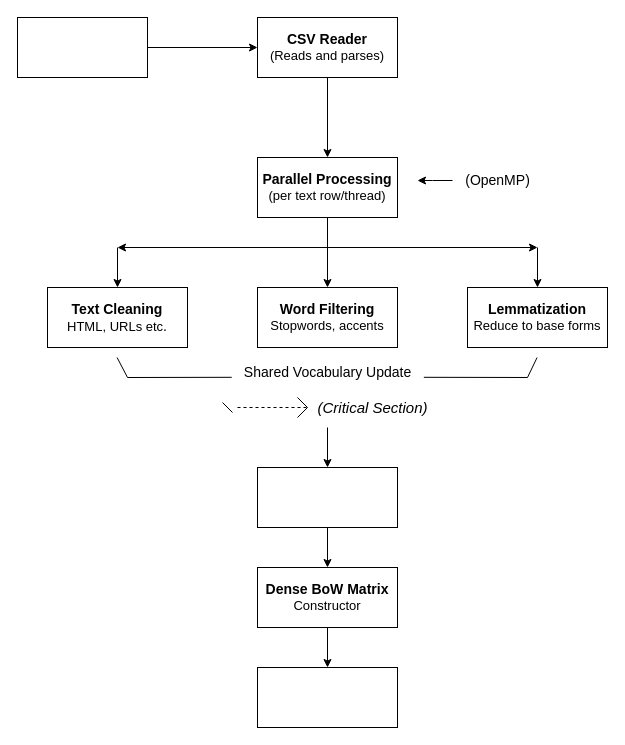
The diagram is 625 pixels wide and 745 high, and some of its shapes have lost their labels. Each missing label, with the box of its shape:
BoW Vector Generator (Sparse): (256, 466, 398, 528)
Output CSV Writers (Model & Vector CSV files): (256, 666, 398, 728)
User Input ( filename, column): (16, 16, 148, 78)
